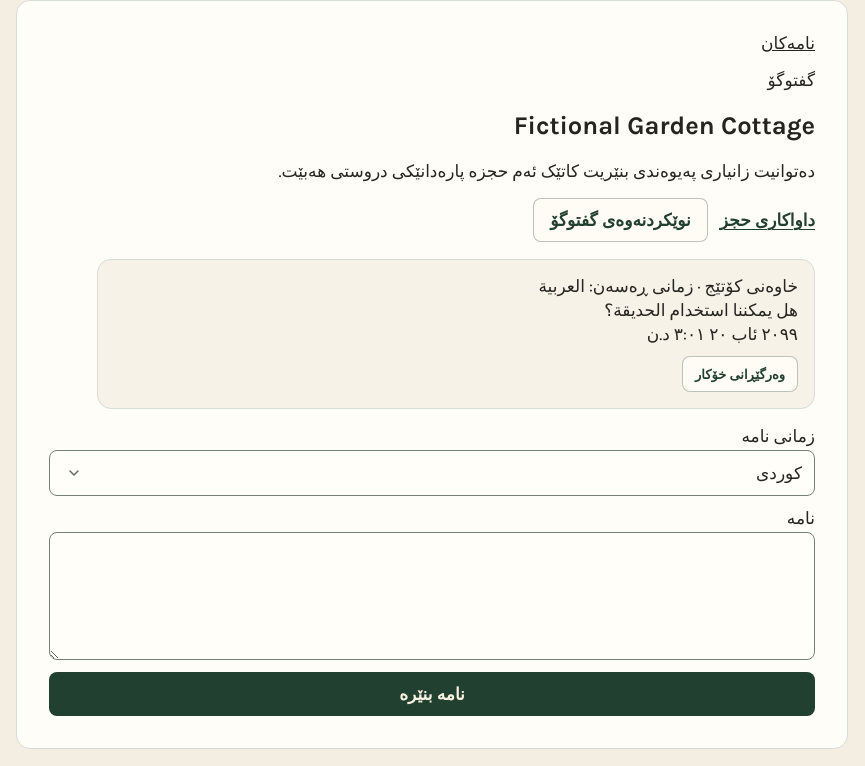
Messaging conversation › becomes explicitly read-only after a suspended send in ckb
Expected: the link "داواکاری حجز" is shown, [720,210,815,230]
Type "A safe question" into the text box at (432, 596), box [49,532,815,660]
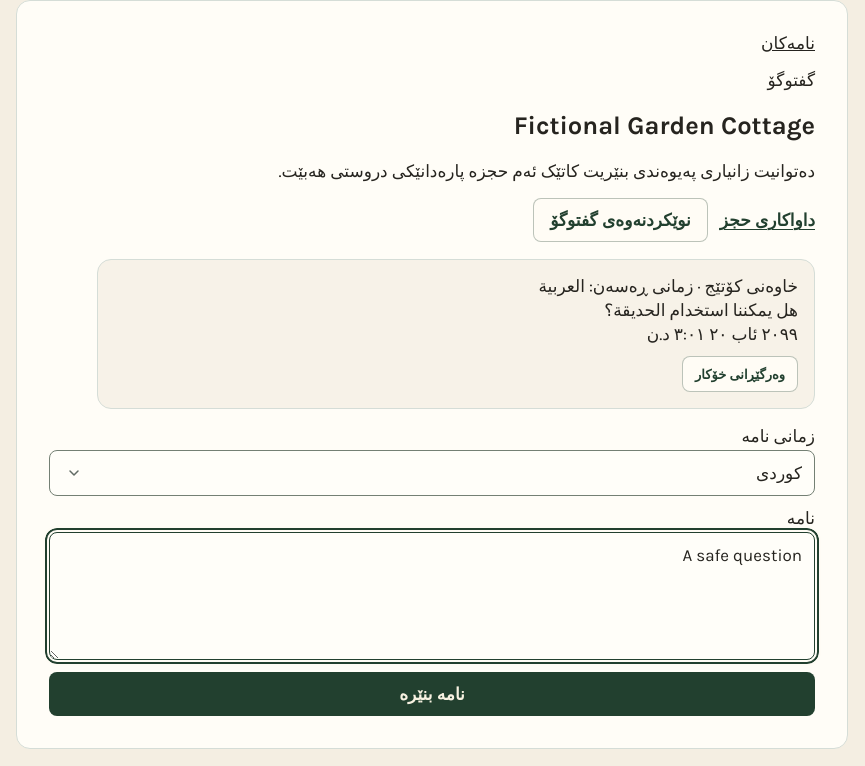
Click the button "نامە بنێرە" at (432, 694), box [49,672,815,716]
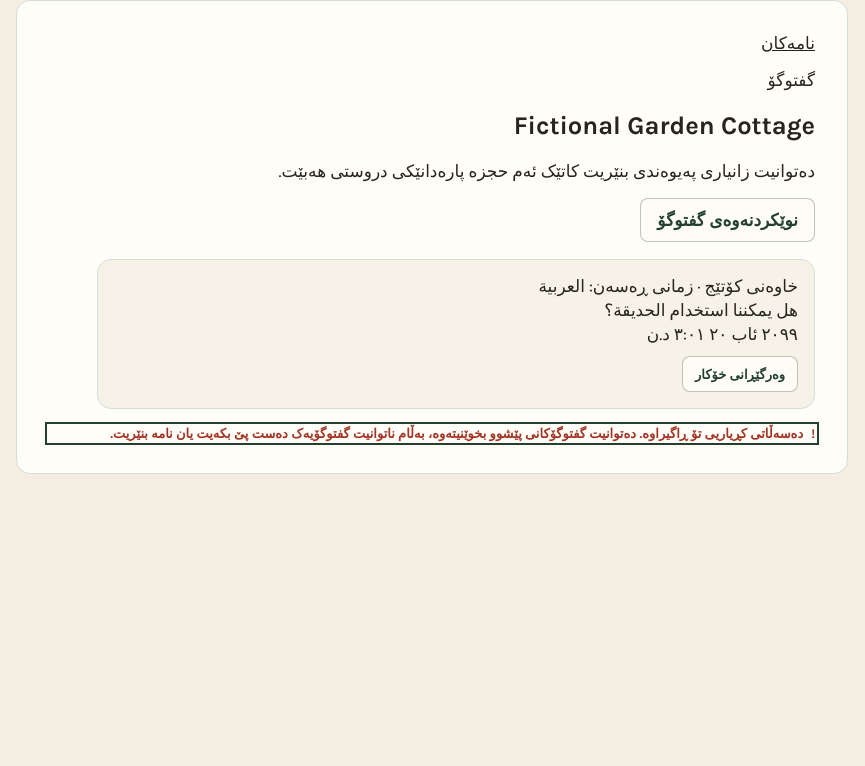
Expected: the button "نوێکردنەوەی گفتوگۆ" is enabled, [640,198,815,242]
Expected: the message shows "دەسەڵاتی کڕیاریی تۆ ڕاگیراوە. دەتوانیت گفتوگۆکانی پێشوو بخوێنیتەوە، بەڵام ناتوانیت گفتوگۆیەک دەست پێ بکەیت یان نامە بنێریت.", [110,426,803,441]
Expected: the link "داواکاری حجز" is gone
